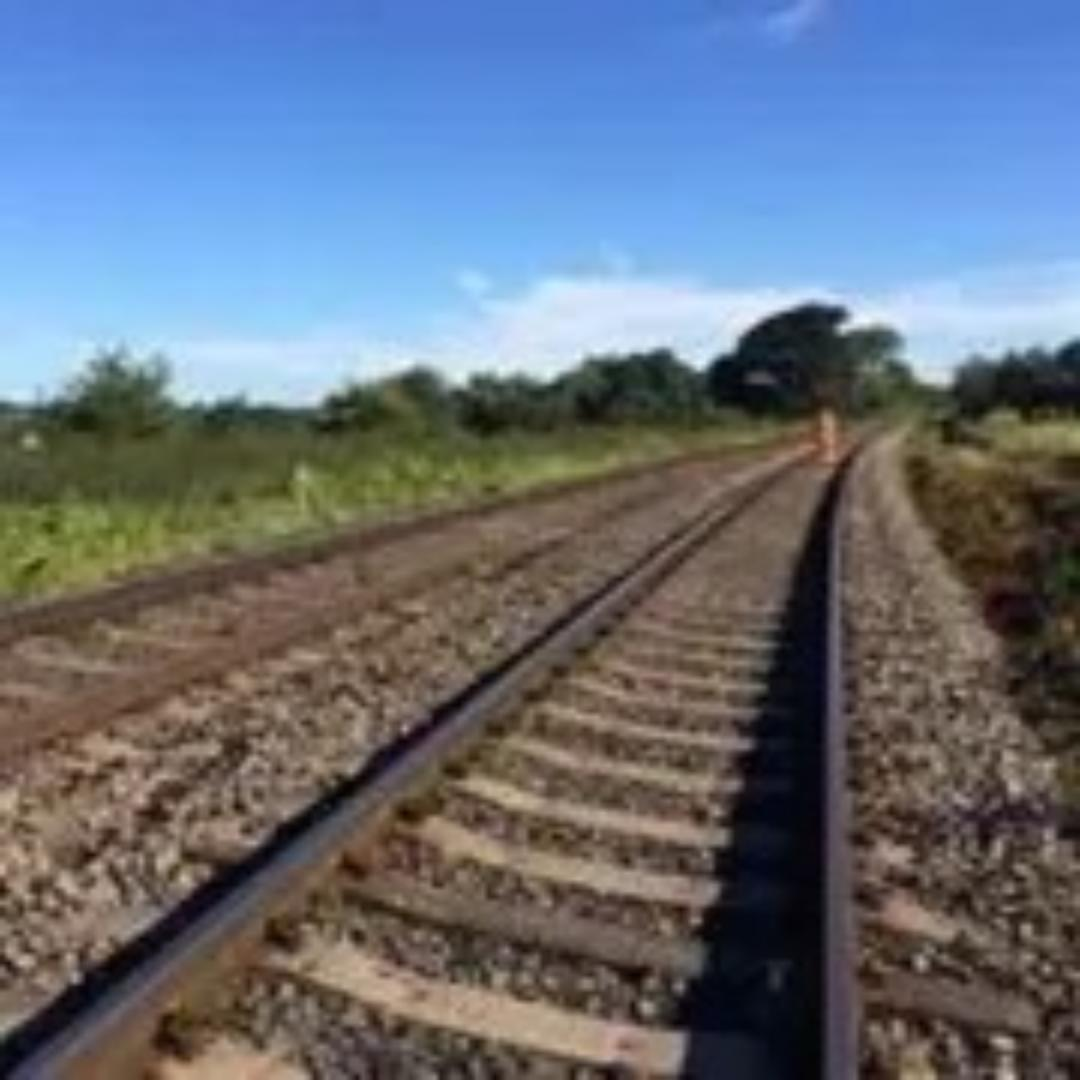track: (7, 406, 937, 1080)
